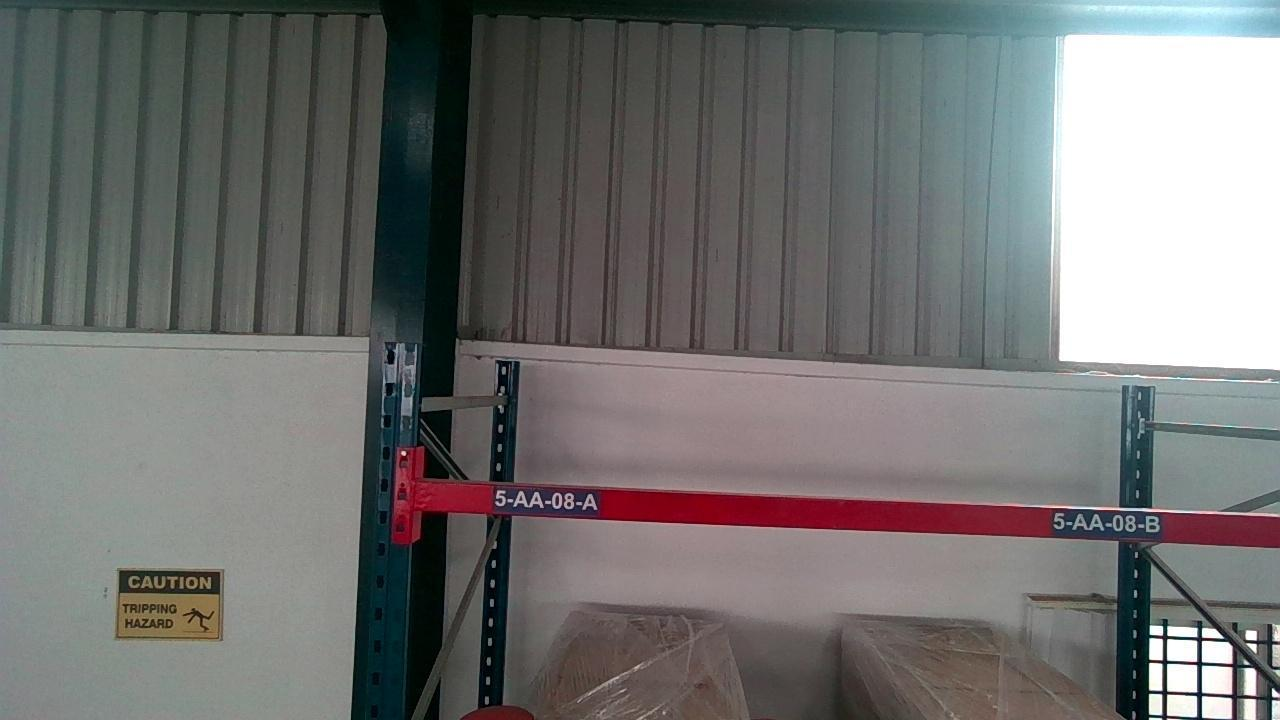h_rack: (417, 483, 1280, 545)
